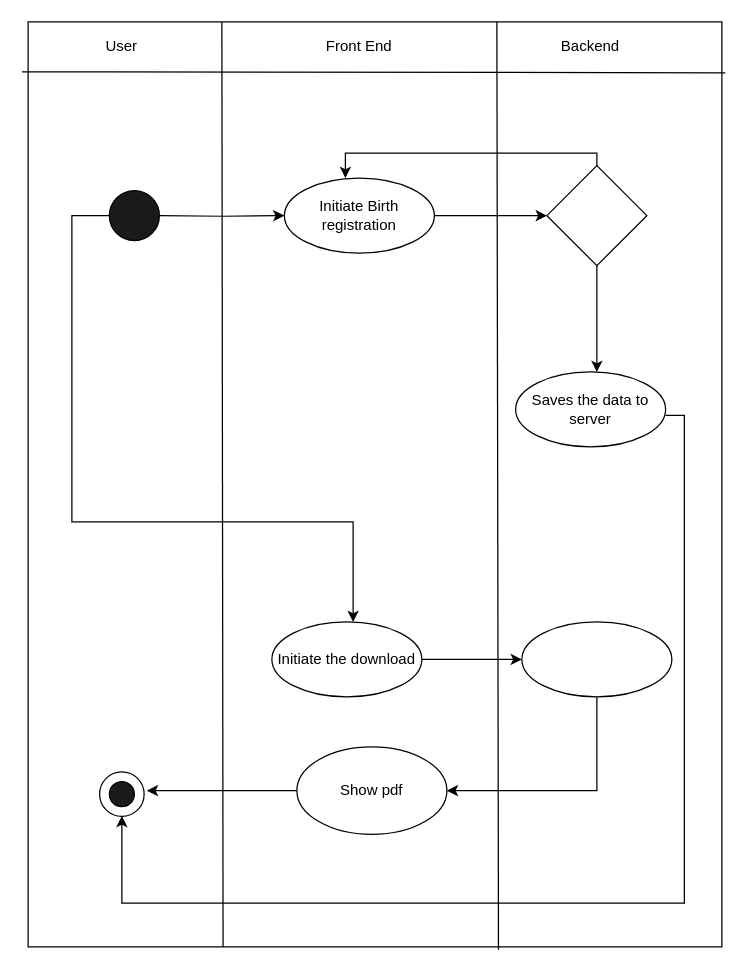
The diagram is 749 pixels wide and 974 high, and some of its shapes have lost their labels. The centre of each missing label's shape, as x and y in pixels:
Ask Server for Pdf: the point at 596,659
Check validation of data: the point at 596,215
